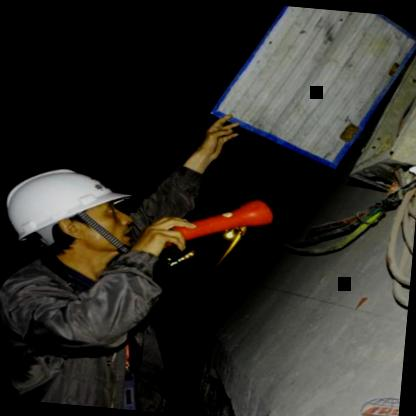helmet: (0, 150, 157, 281)
